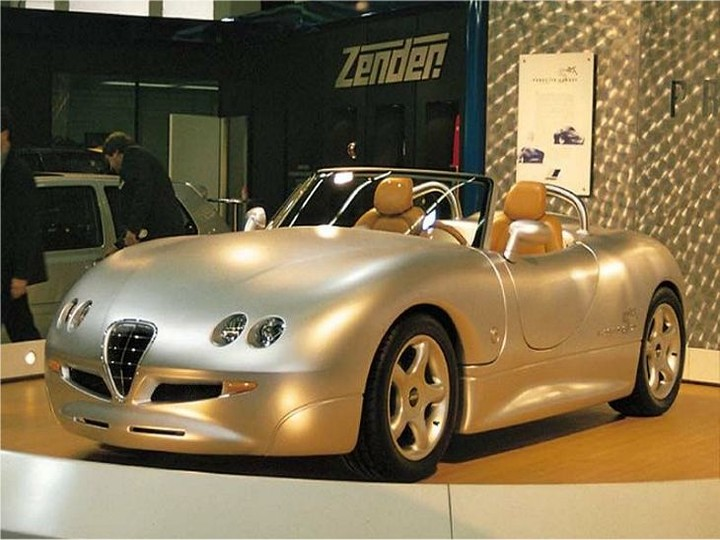car: (40, 158, 696, 483)
